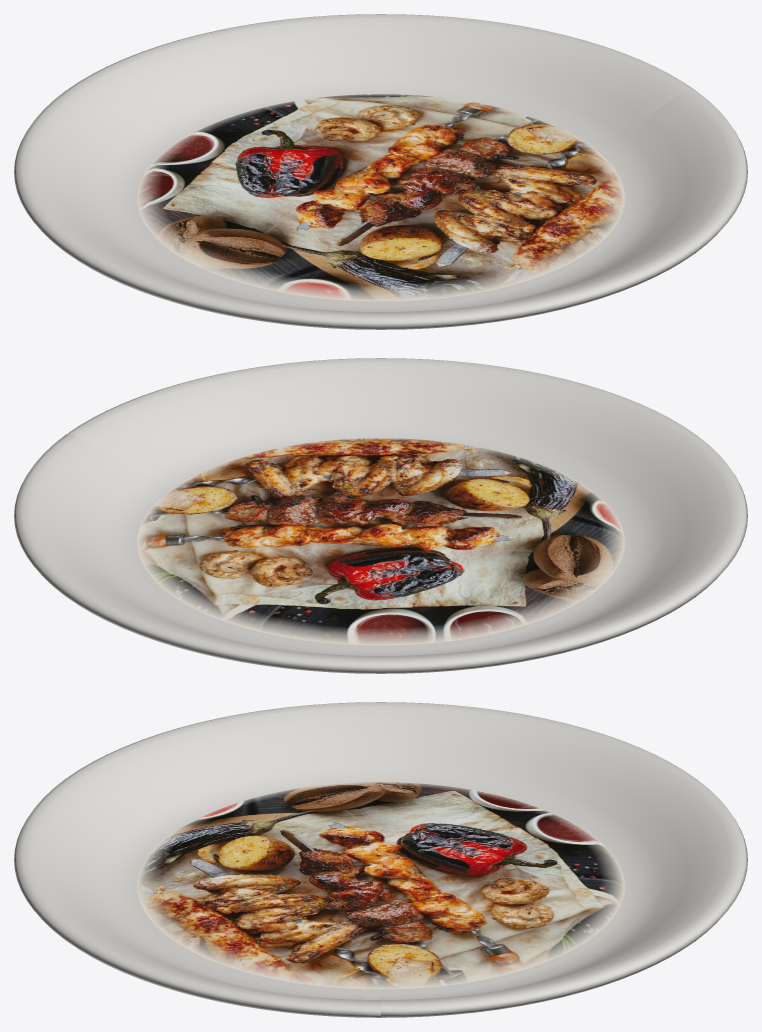
File: brochettes.glb
3 views of the same model, one above another, from view 1: azimuth 30°, elevation 25°; view 2: azimuth 150°, elevation 25°; view 3: azimuth 270°, elevation 25° (orthographic).
Visible parts, largest first — view 1: assiette, plat; view 2: assiette, plat; view 3: assiette, plat.
Part boxes in pixels (x1,y1,x2,y2): assiette: (14,14,747,329); plat: (137,94,624,301); assiette: (14,358,747,673); plat: (137,438,624,645); assiette: (14,702,747,1017); plat: (137,782,624,989).
Bounding box in the file's own units: 0.301 × 0.0232 × 0.301.
Materials: 2 (1 with a texture image).
